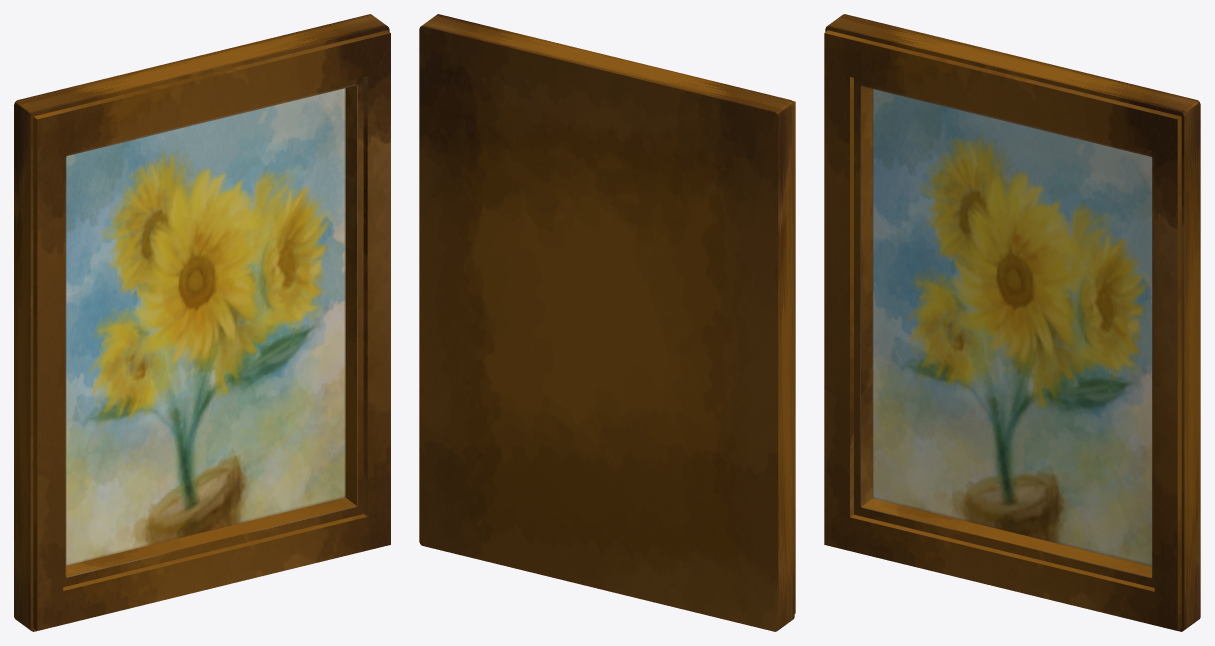
Rendered from treasure_painting_sunflower.fbx.
The picture shows the model from 3 angles, left to right: view 1: azimuth 30°, elevation 25°; view 2: azimuth 150°, elevation 25°; view 3: azimuth 330°, elevation 25°; orthographic projection.
Visible parts, largest first — view 1: pCube1; view 2: pCube1; view 3: pCube1.
Boxes of the visible parts, box(x1,y1,x2,y2) form: pCube1: box(14, 14, 390, 631); pCube1: box(419, 14, 795, 631); pCube1: box(824, 14, 1200, 631).
Size of the model in its own units: 10.36 by 14.32 by 1.02.
Materials: 1 (1 with a texture image).
